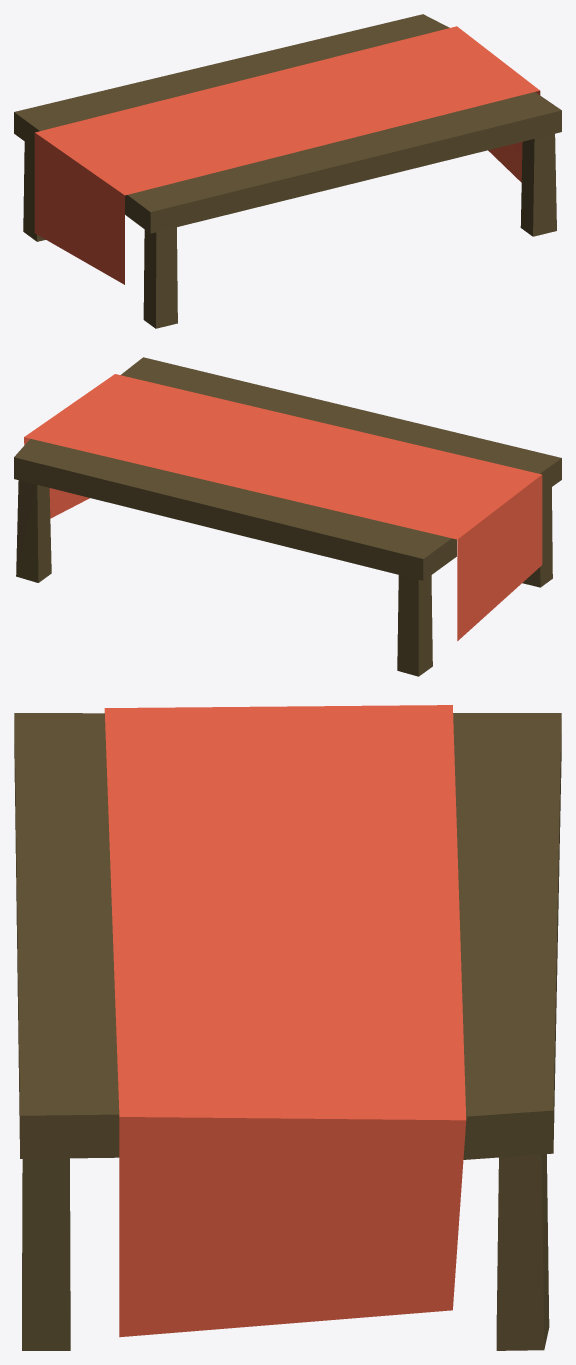
The model's file is Table 08.FBX.
3 renders of one model, top to bottom at view 1: azimuth 30°, elevation 25°; view 2: azimuth 150°, elevation 25°; view 3: azimuth 270°, elevation 25°, orthographic. The views are drawn at different scales.
Visible parts, largest first — view 1: Table 08; view 2: Table 08; view 3: Table 08.
Part boxes in pixels (left/top/right/bottom): Table 08: left=14, top=14, right=561, bottom=328; Table 08: left=14, top=357, right=561, bottom=676; Table 08: left=14, top=705, right=561, bottom=1350.
Bounding box in the file's own units: 288 × 78.12 × 160.
